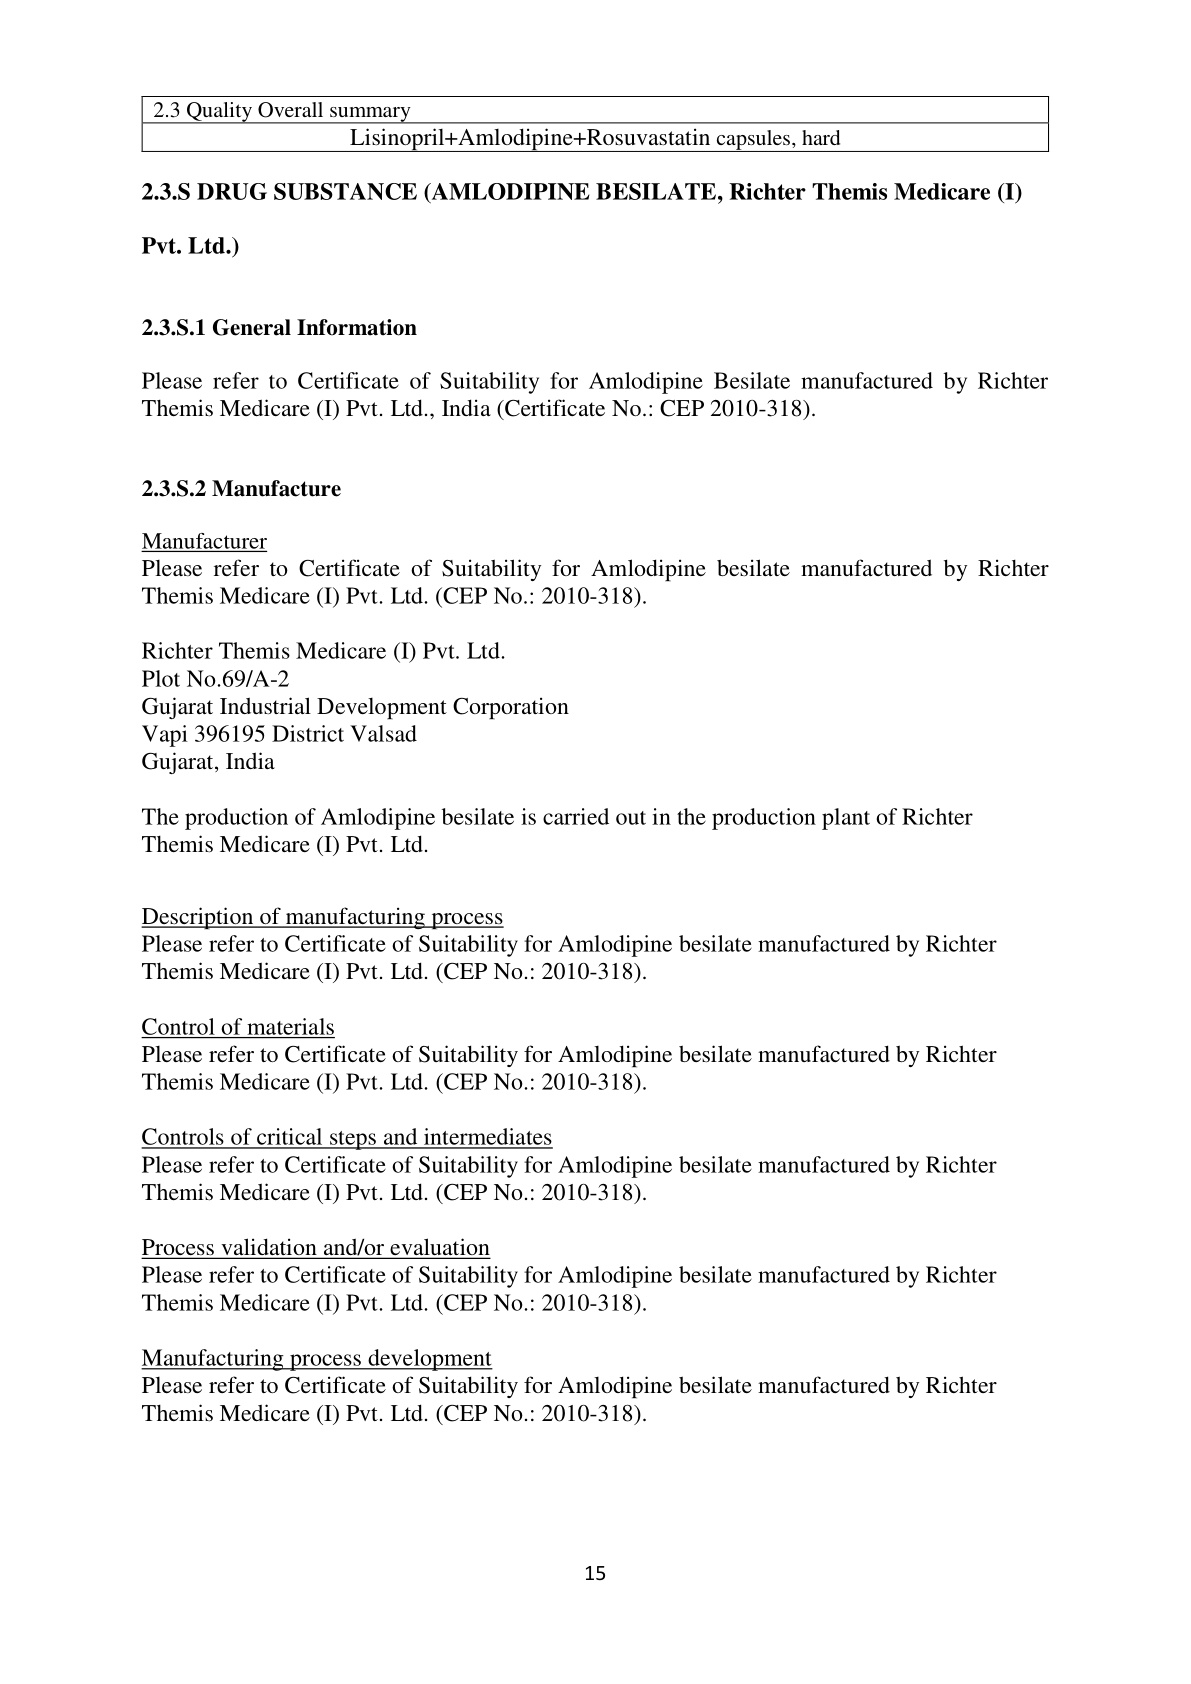full_lined: (140, 95, 1051, 152)
